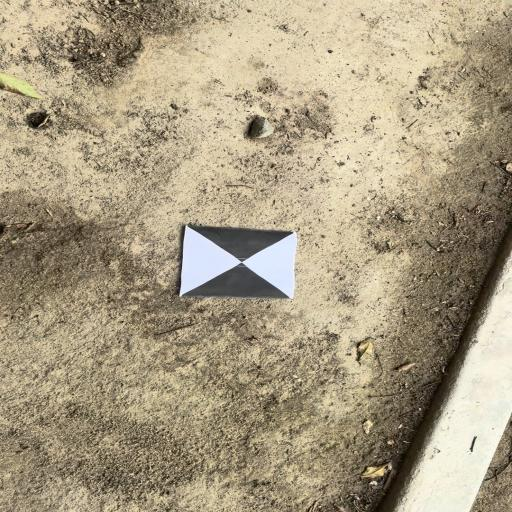target: (180, 225, 297, 299)
